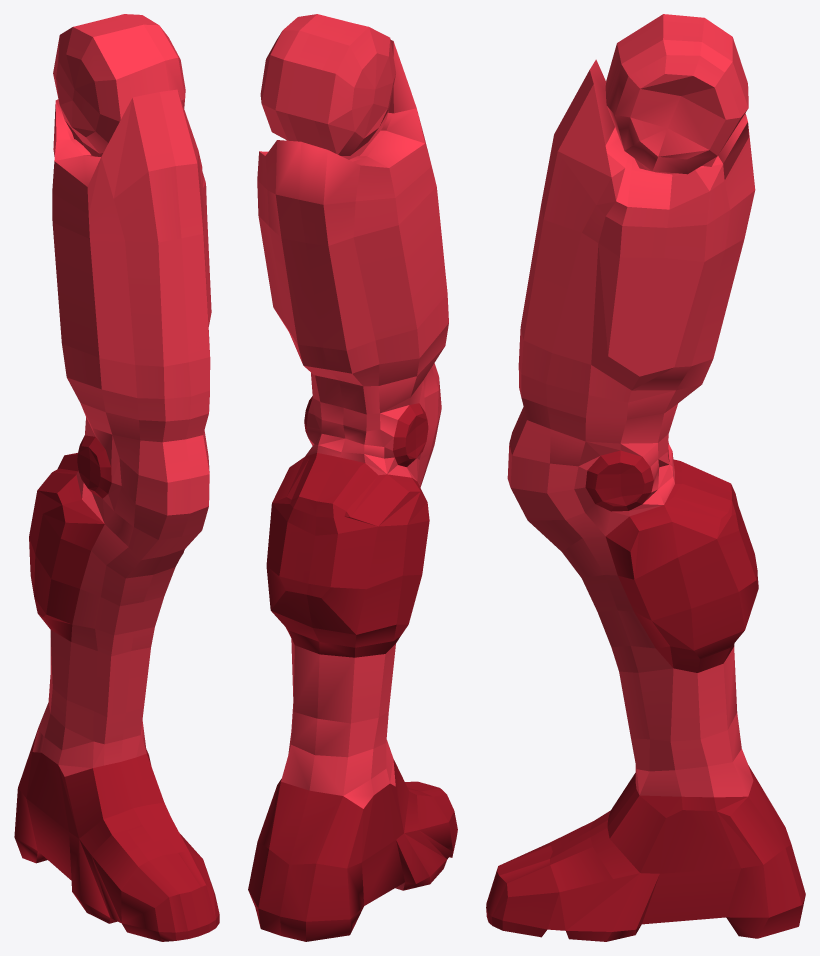
File: left_leg.fbx
3 renders of one model, left to right at view 1: azimuth 30°, elevation 25°; view 2: azimuth 150°, elevation 25°; view 3: azimuth 270°, elevation 25°, orthographic. The views are drawn at different scales.
Visible parts, largest first — view 1: left_thigh; view 2: left_thigh; view 3: left_thigh.
Boxes of the visible parts, <box> form: left_thigh: <box>14,14,219,941</box>; left_thigh: <box>248,14,457,941</box>; left_thigh: <box>486,14,805,941</box>.
Bounding box in the file's own units: 0.1952 × 1.13 × 0.364.
